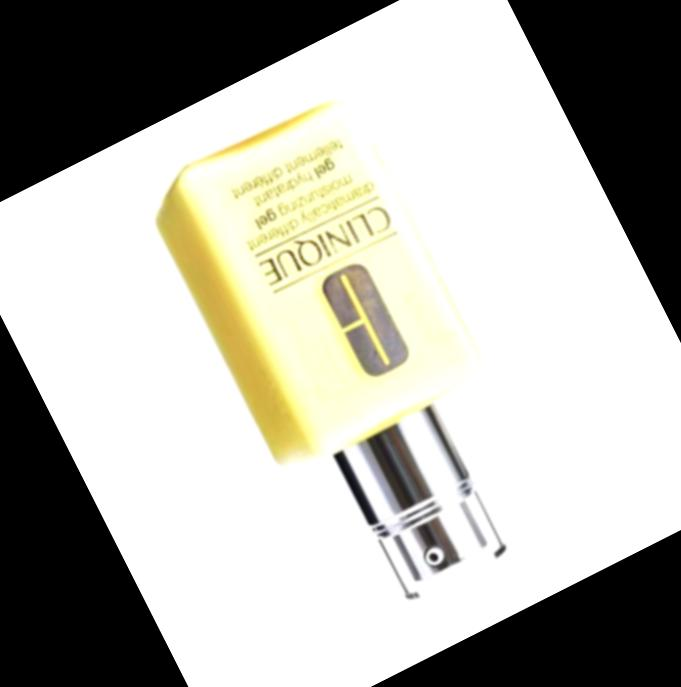cosmetic: (139, 88, 570, 634)
